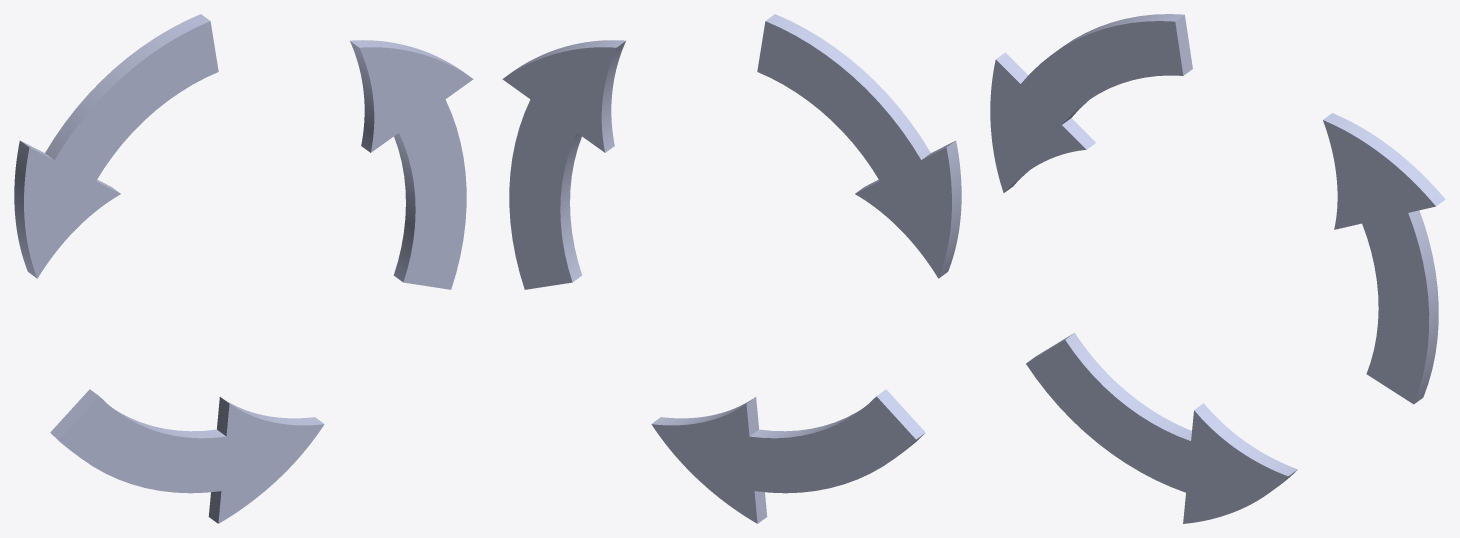
File: Moment arrows fbx.obj
3 renders of one model, left to right at view 1: azimuth 30°, elevation 25°; view 2: azimuth 150°, elevation 25°; view 3: azimuth 330°, elevation 25°, orthographic.
Visible parts, largest first — view 1: Root|Moment_arrow_assem_VISUALIZE_(Default)|Merged_Parts|Part; view 2: Root|Moment_arrow_assem_VISUALIZE_(Default)|Merged_Parts|Part; view 3: Root|Moment_arrow_assem_VISUALIZE_(Default)|Merged_Parts|Part.
Boxes of the visible parts, left/top/right/bottom form: Root|Moment_arrow_assem_VISUALIZE_(Default)|Merged_Parts|Part: left=14, top=14, right=473, bottom=523; Root|Moment_arrow_assem_VISUALIZE_(Default)|Merged_Parts|Part: left=502, top=14, right=961, bottom=523; Root|Moment_arrow_assem_VISUALIZE_(Default)|Merged_Parts|Part: left=990, top=14, right=1445, bottom=523.
Size of the model in its own units: 0.0806 by 0.0865 by 0.003.
